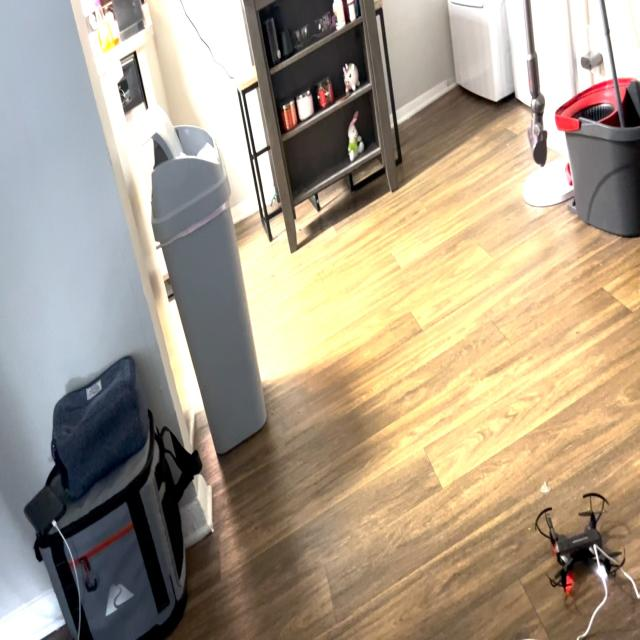drone: (523, 482, 631, 606)
